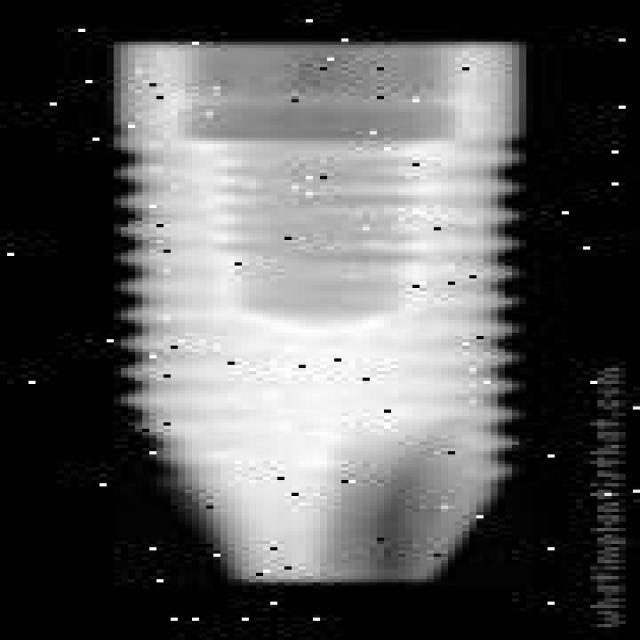OCO Biomedical Implant: (114, 41, 531, 588)
